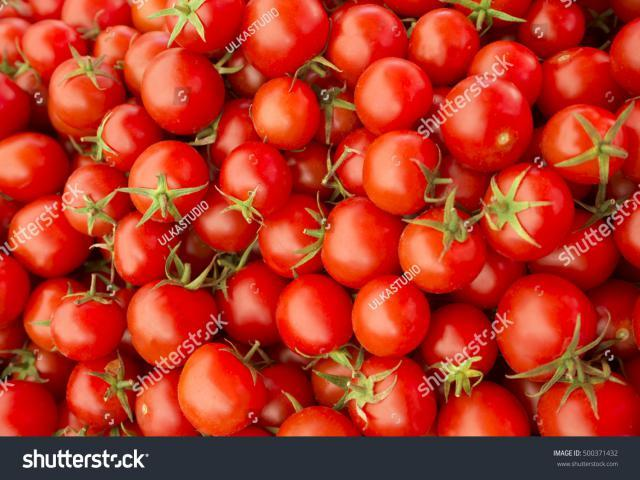tomato: (492, 281, 608, 386), (118, 280, 226, 366), (326, 358, 444, 436), (187, 336, 279, 432), (136, 46, 228, 138), (268, 280, 362, 368), (316, 200, 408, 288), (238, 4, 338, 84), (446, 76, 530, 171), (485, 174, 572, 260), (544, 107, 630, 190), (361, 130, 451, 208), (323, 10, 410, 86), (128, 142, 206, 226), (16, 202, 96, 282), (408, 216, 488, 296), (351, 63, 436, 137), (53, 288, 133, 364), (49, 62, 126, 139), (250, 80, 330, 154), (221, 144, 296, 222), (360, 276, 430, 354), (60, 166, 134, 238), (16, 24, 90, 86), (9, 130, 65, 210), (165, 2, 238, 54), (100, 106, 153, 164)
